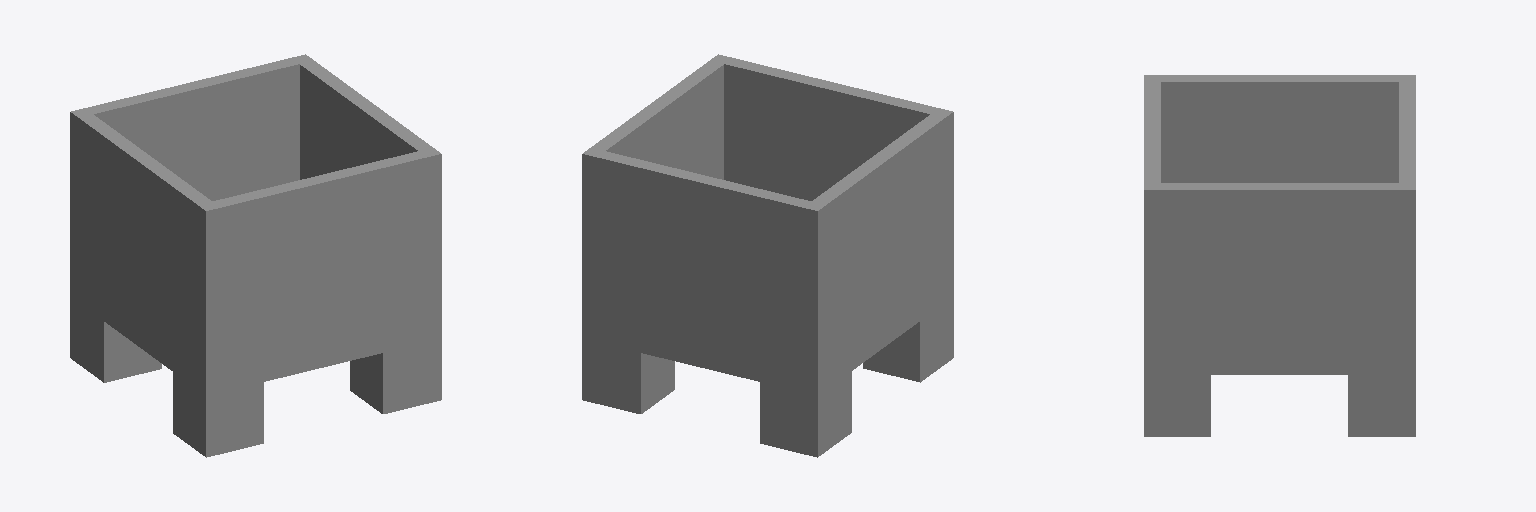
File: crucible.obj
3 views of the same model, side by side, from view 1: azimuth 30°, elevation 25°; view 2: azimuth 150°, elevation 25°; view 3: azimuth 270°, elevation 25° (orthographic).
Parts seen in each view (by area): view 1: Cube; view 2: Cube; view 3: Cube.
Part boxes in pixels (bbox=[...]): Cube: bbox=[70, 54, 441, 457]; Cube: bbox=[582, 54, 953, 457]; Cube: bbox=[1144, 75, 1415, 436].
Bounding box in the file's own units: 1 × 1 × 1.